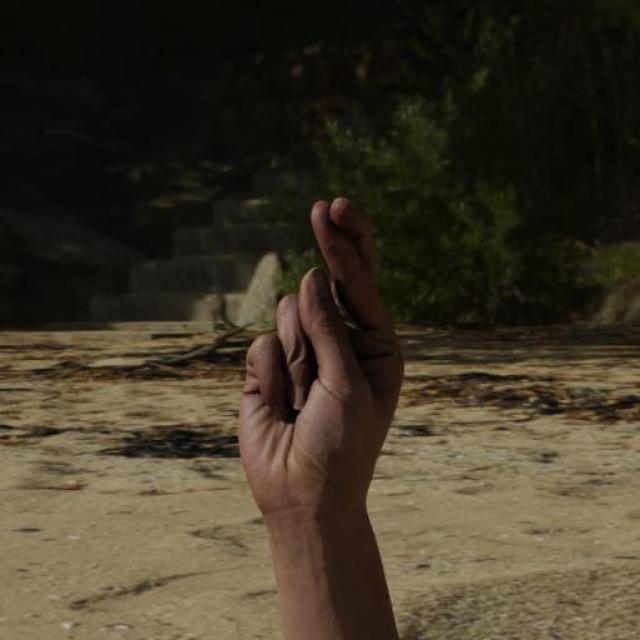R: (231, 190, 409, 530)
